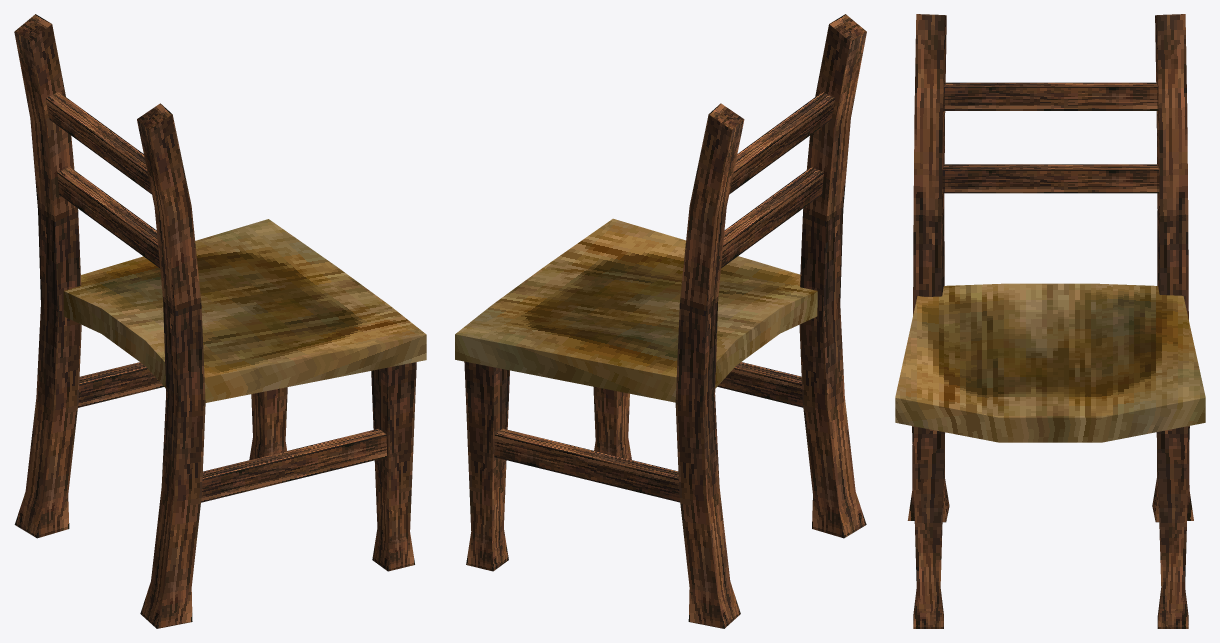
File: INST_LT_CHAIR.obj
3 views of the same model, side by side, from view 1: azimuth 30°, elevation 25°; view 2: azimuth 150°, elevation 25°; view 3: azimuth 270°, elevation 25° (orthographic).
Parts seen in each view (by area): view 1: Object01; view 2: Object01; view 3: Object01.
Part boxes in pixels (left/top/right/bottom): Object01: left=14, top=14, right=426, bottom=628; Object01: left=455, top=14, right=866, bottom=628; Object01: left=895, top=14, right=1205, bottom=628.
Bounding box in the file's own units: 58.3 × 101 × 56.79.
